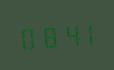eight: (37, 21, 55, 50)
four: (56, 20, 74, 48)
one: (75, 18, 93, 47)
zero: (18, 22, 36, 51)
